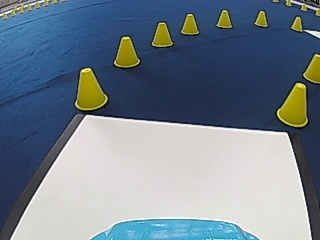cone: (276, 81, 308, 127), (75, 67, 108, 110), (113, 35, 141, 68), (151, 22, 173, 47), (303, 53, 320, 83), (180, 13, 199, 35), (215, 9, 232, 28), (254, 10, 268, 27), (291, 16, 303, 31)
